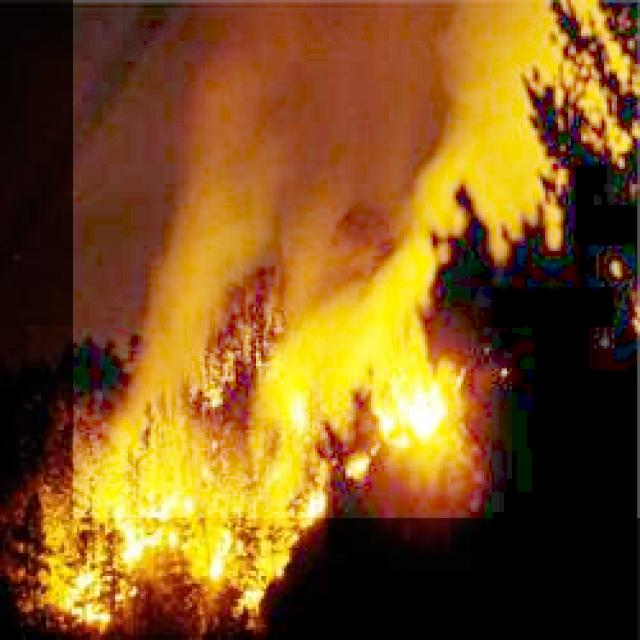Fire: (28, 325, 510, 634)
Smoke: (73, 0, 640, 518)
